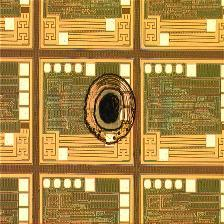PARTICLE: (81, 72, 140, 148)
